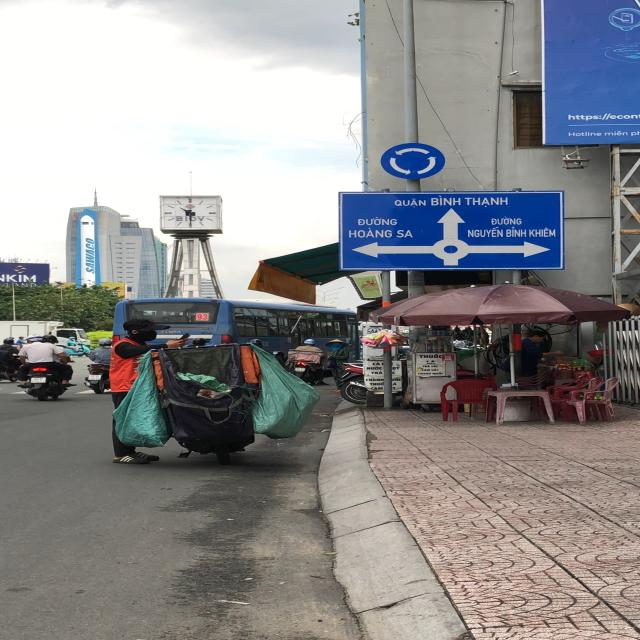Bien bao noi giao nhau chay theo vong xuyen: (377, 140, 451, 182)
